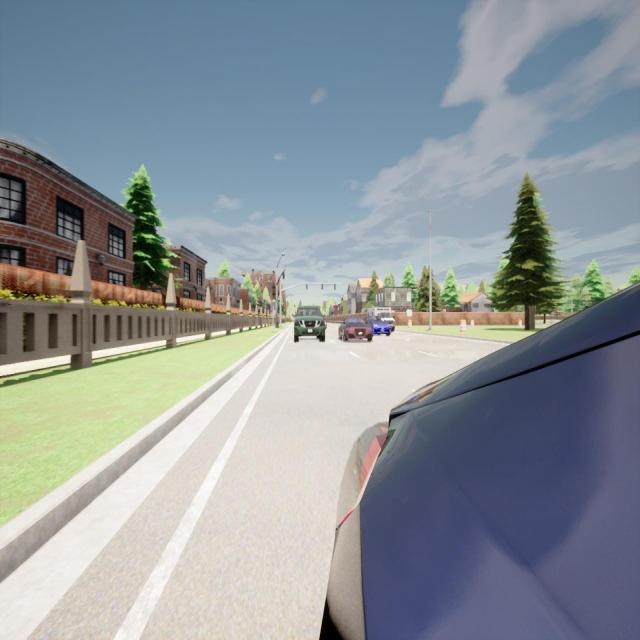Traffic_Signs: (270, 302, 276, 311), (407, 309, 412, 316)
Vehicle: (327, 284, 639, 637), (292, 306, 326, 342), (338, 318, 372, 342), (366, 307, 396, 332), (365, 316, 390, 336)
traffic_light: (282, 271, 284, 279), (306, 284, 308, 290), (334, 284, 336, 290), (322, 284, 323, 290)
